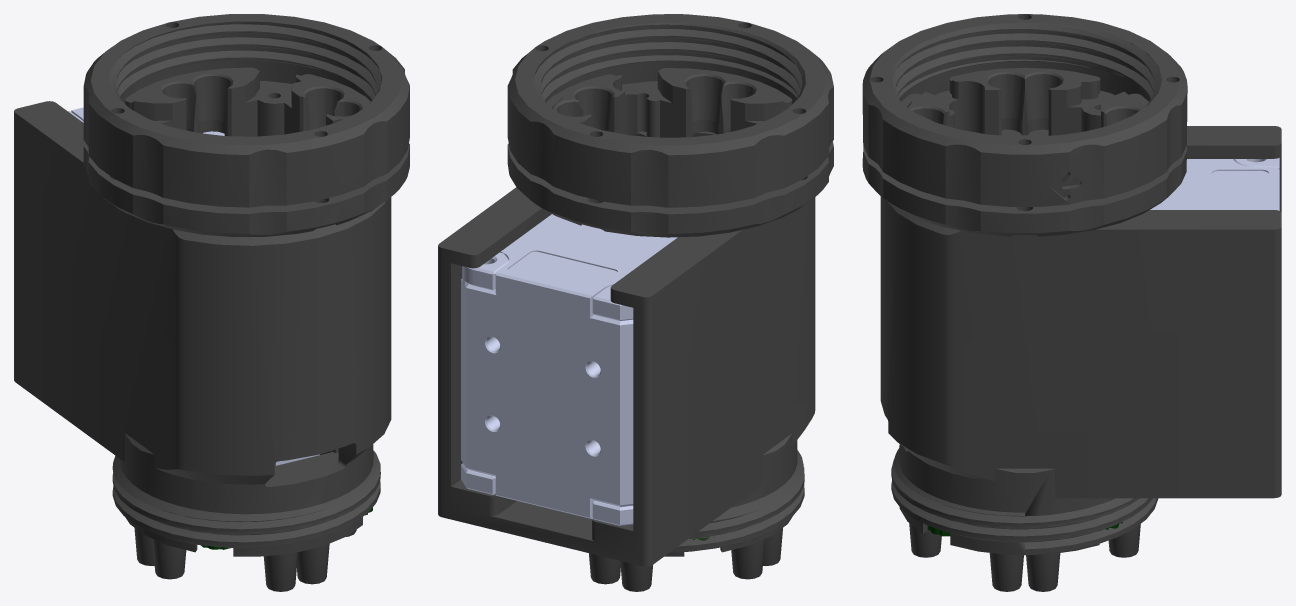
3 views of the same model, side by side, from view 1: azimuth 30°, elevation 25°; view 2: azimuth 150°, elevation 25°; view 3: azimuth 270°, elevation 25° (orthographic).
Parts seen in each view (by area): view 1: node32, node29, node30, node31; view 2: node32, node3, node29, node30, node31, node11, node7, node9, node14; view 3: node32, node29, node30, node31, node3.
Part boxes in pixels (left/top/right/bottom): node32: left=14, top=101, right=391, bottom=591; node29: left=83, top=14, right=409, bottom=207; node30: left=125, top=67, right=370, bottom=136; node31: left=83, top=80, right=409, bottom=237; node32: left=438, top=131, right=815, bottom=591; node3: left=461, top=214, right=677, bottom=519; node29: left=507, top=14, right=833, bottom=207; node30: left=546, top=68, right=792, bottom=137; node31: left=507, top=81, right=833, bottom=237; node11: left=462, top=252, right=508, bottom=290; node7: left=592, top=286, right=633, bottom=320; node9: left=592, top=501, right=633, bottom=525; node14: left=461, top=463, right=495, bottom=494; node32: left=880, top=126, right=1281, bottom=591; node29: left=862, top=14, right=1187, bottom=206; node30: left=901, top=67, right=1148, bottom=135; node31: left=862, top=90, right=1186, bottom=236; node3: left=1150, top=159, right=1279, bottom=210.
Bounding box in the file's own units: 0.0449 × 0.071 × 0.058.
